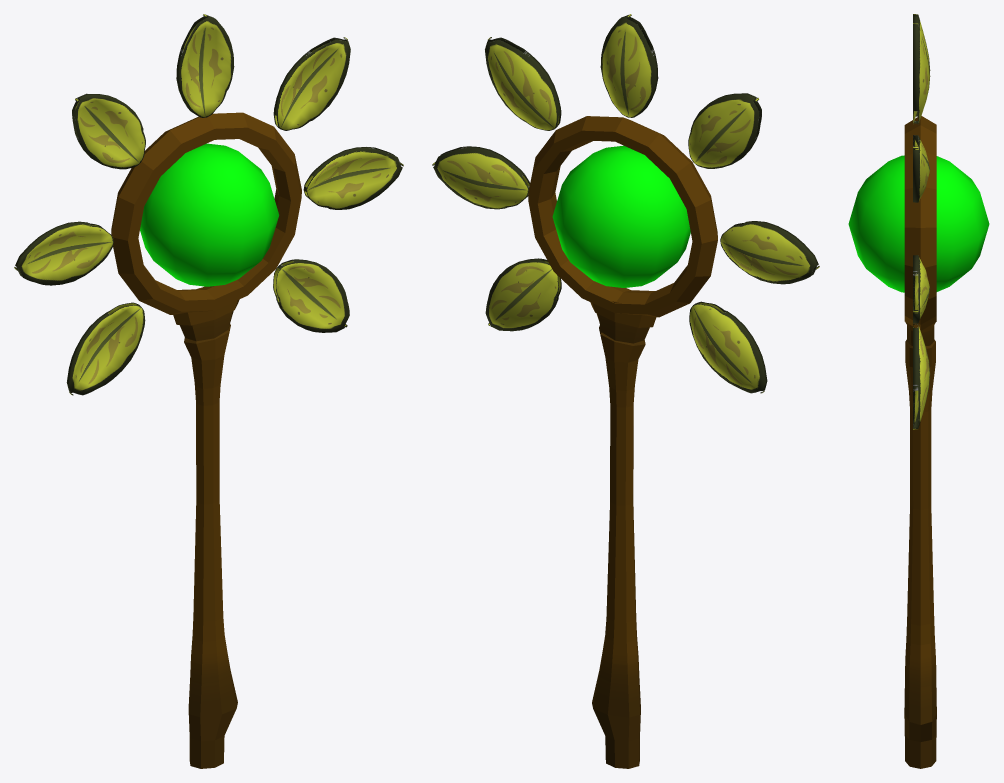
The model's file is Senjata Alyssia.fbx.
3 renders of one model, left to right at view 1: azimuth 30°, elevation 25°; view 2: azimuth 150°, elevation 25°; view 3: azimuth 270°, elevation 25°, orthographic.
Parts seen in each view (by area): view 1: Senjata Alyssia; view 2: Senjata Alyssia; view 3: Senjata Alyssia.
Part boxes in pixels (<box>): Senjata Alyssia: <box>14,14,403,768</box>; Senjata Alyssia: <box>432,14,819,768</box>; Senjata Alyssia: <box>848,14,989,768</box>.
Bounding box in the file's own units: 220 × 408 × 70.87.
